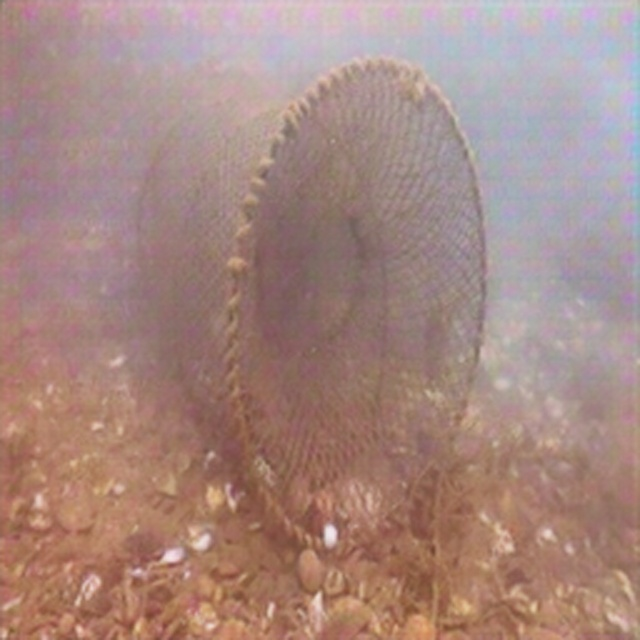mine: (136, 55, 488, 554)
